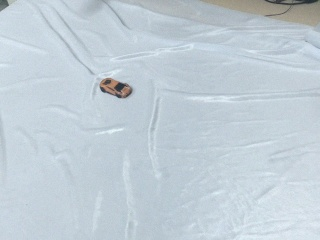toy_car: (100, 78, 133, 99)
